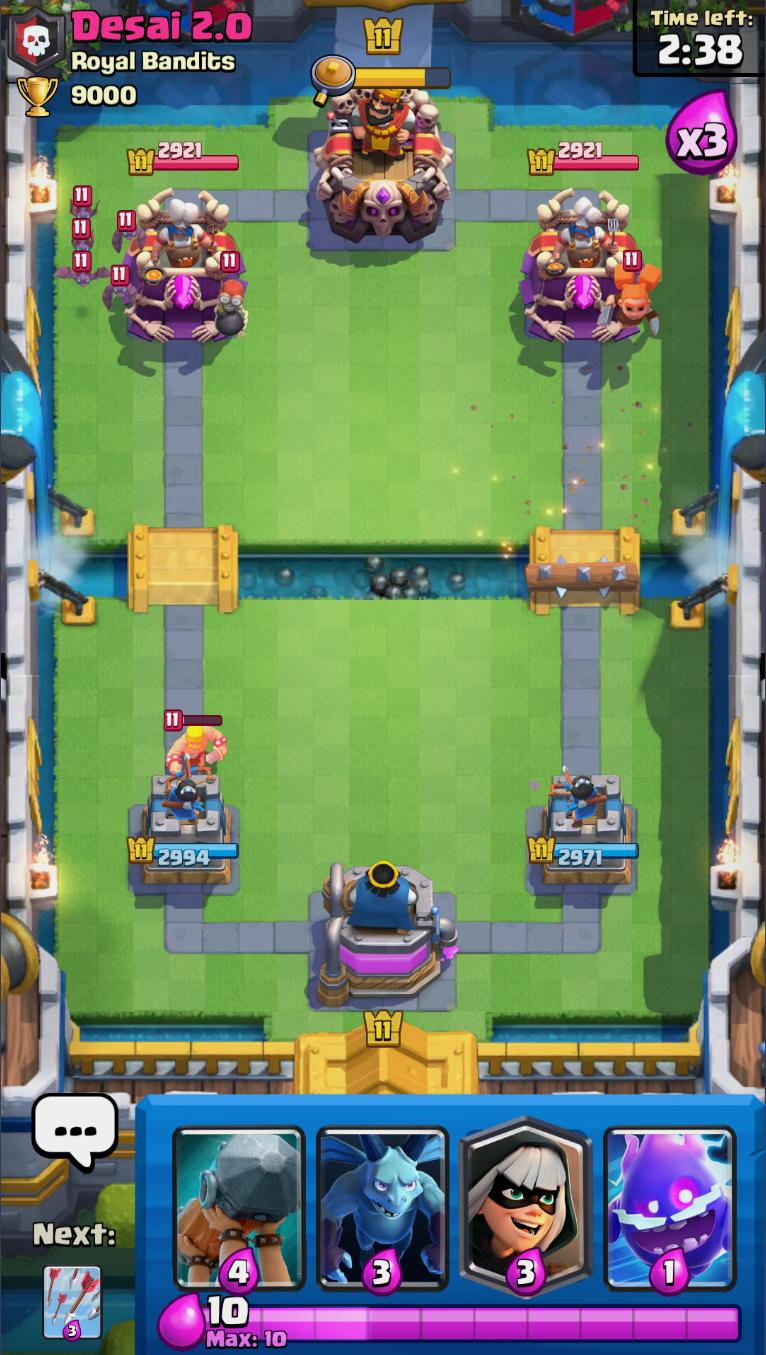ArrowNext: (42, 1263, 104, 1343)
BanditDeck: (450, 1097, 599, 1295)
Barbarian: (161, 712, 232, 780)
Bat: (54, 248, 113, 286), (101, 267, 139, 311), (108, 210, 146, 253), (69, 185, 99, 224), (68, 218, 99, 254)
BattleRamDeck: (173, 1098, 310, 1290)
Berserker: (605, 252, 664, 338)
Bomber: (213, 251, 251, 339)
Chef: (149, 199, 217, 273), (553, 197, 617, 274)
ElectroSpiritDeck: (599, 1097, 744, 1294)
Elixir: (202, 1296, 742, 1349)
EnemyTower: (120, 189, 250, 348), (520, 188, 648, 345)
KingTower: (309, 78, 456, 245)
Log: (522, 555, 643, 600)
MinionsDeck: (312, 1097, 453, 1296)
MyKingTower: (316, 858, 458, 1009)
MyPrincessTower: (128, 770, 241, 894), (528, 775, 640, 894)
MyPrincessTowerHP: (126, 835, 240, 869), (527, 835, 641, 869)
TowerPrincessHP: (526, 139, 641, 178), (125, 140, 240, 176)
